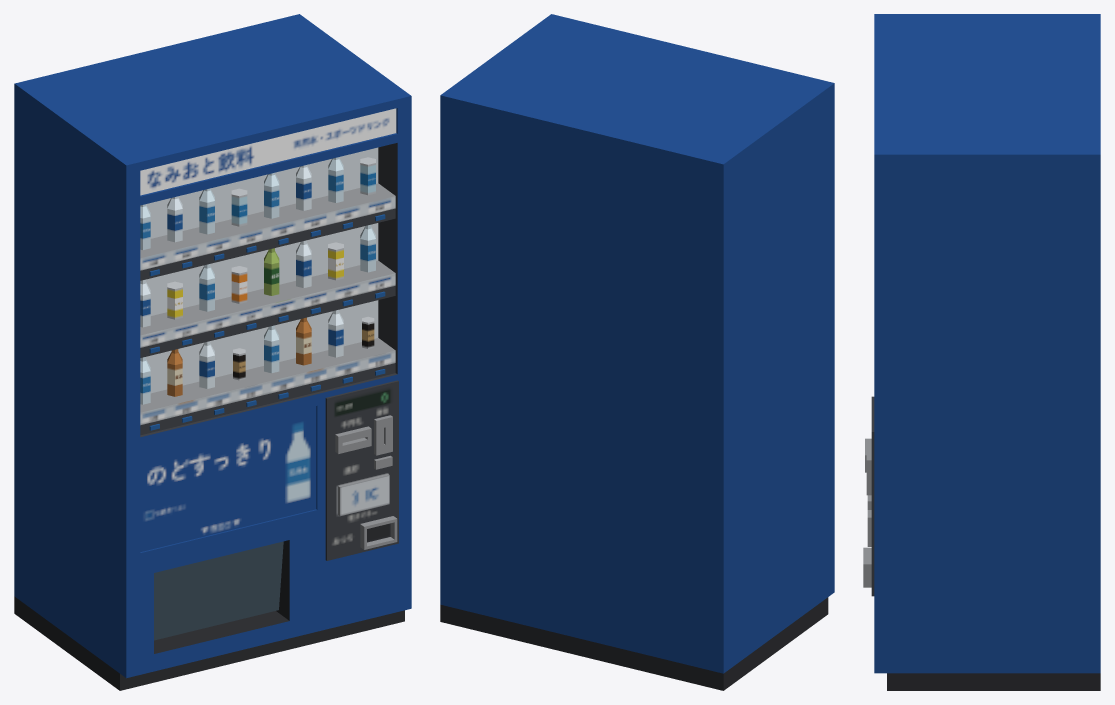
The model's file is SM_Street_Vending_HD_Blue_103_01.fbx.
The picture shows the model from 3 angles, left to right: view 1: azimuth 30°, elevation 25°; view 2: azimuth 150°, elevation 25°; view 3: azimuth 270°, elevation 25°; orthographic projection.
Visible parts, largest first — view 1: SM_Street_Vending_HD_Blue_103_01; view 2: SM_Street_Vending_HD_Blue_103_01; view 3: SM_Street_Vending_HD_Blue_103_01.
Boxes of the visible parts, box(x1,y1,x2,y2) form: SM_Street_Vending_HD_Blue_103_01: box(14, 14, 411, 690); SM_Street_Vending_HD_Blue_103_01: box(440, 14, 834, 690); SM_Street_Vending_HD_Blue_103_01: box(863, 14, 1100, 690).
Bounding box in the file's own units: 1.03 × 1.83 × 0.733.
1 material, 1 textured.
